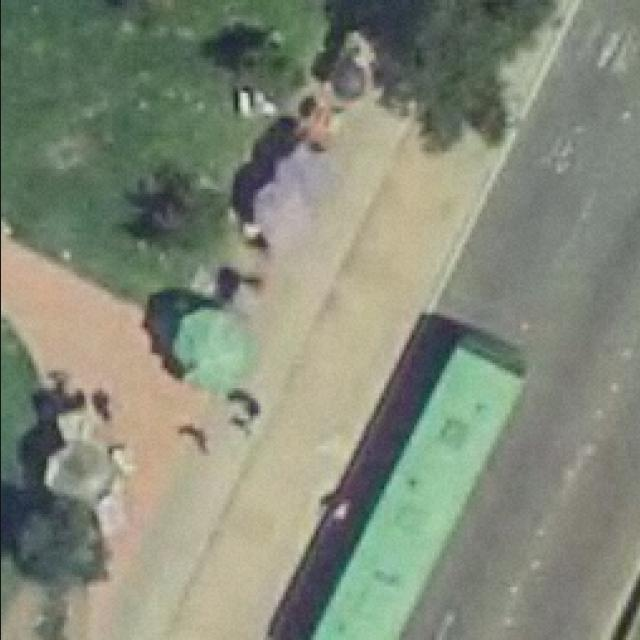vendedor_ambulante: (168, 300, 258, 394), (40, 430, 122, 513), (244, 180, 320, 258), (274, 148, 350, 207)
